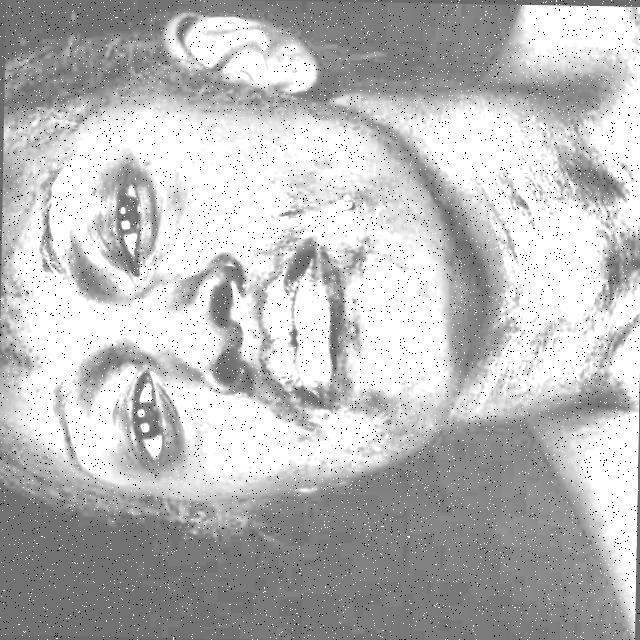sad: (0, 8, 489, 546)
